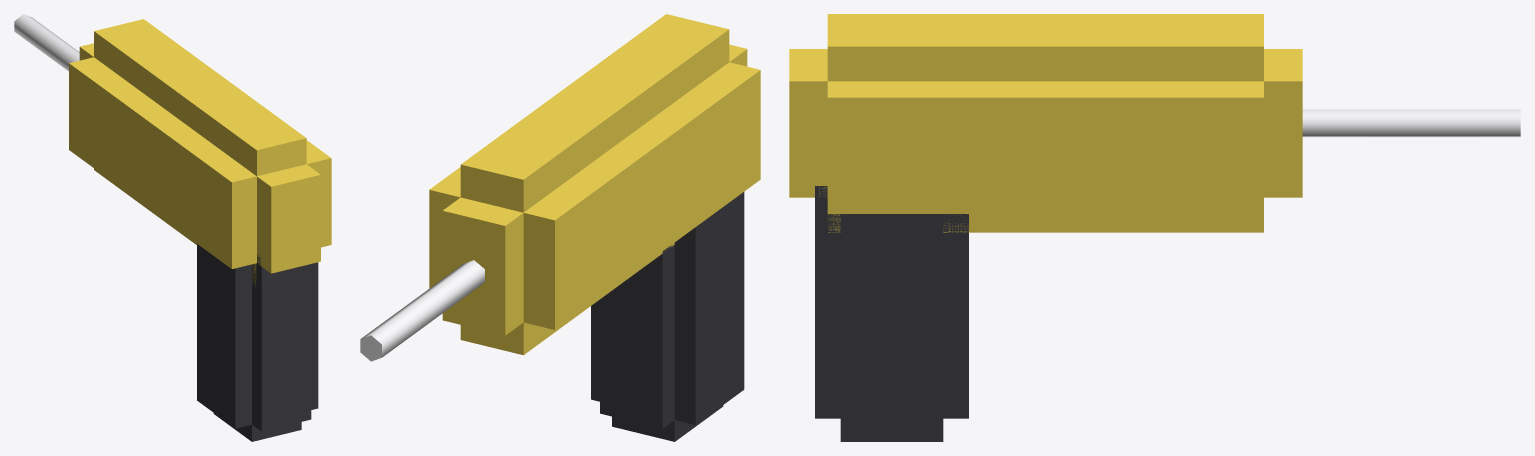
Rendered from drill.glb.
The picture shows the model from 3 angles, left to right: view 1: azimuth 30°, elevation 25°; view 2: azimuth 150°, elevation 25°; view 3: azimuth 270°, elevation 25°; orthographic projection. The views are drawn at different scales.
Parts seen in each view (by area): view 1: drill; view 2: drill; view 3: drill.
Part boxes in pixels (x1=…): drill: x1=14, y1=14, x2=331, y2=441; drill: x1=360, y1=14, x2=760, y2=441; drill: x1=789, y1=14, x2=1520, y2=441.
Size of the model in its own units: 0.06 by 0.17 by 0.285.
